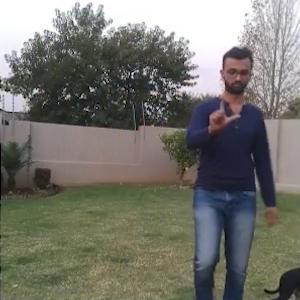land_hand: (201, 91, 244, 135)
